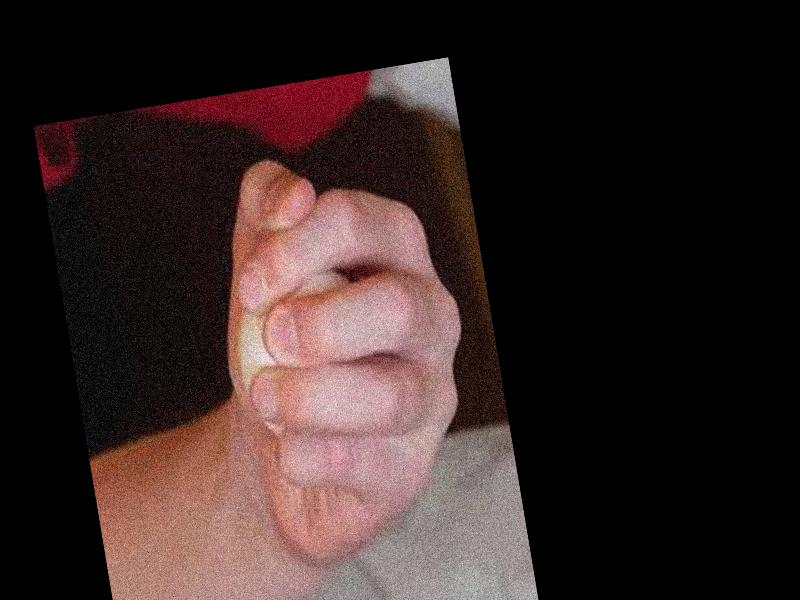Eggs: (222, 248, 374, 440)
